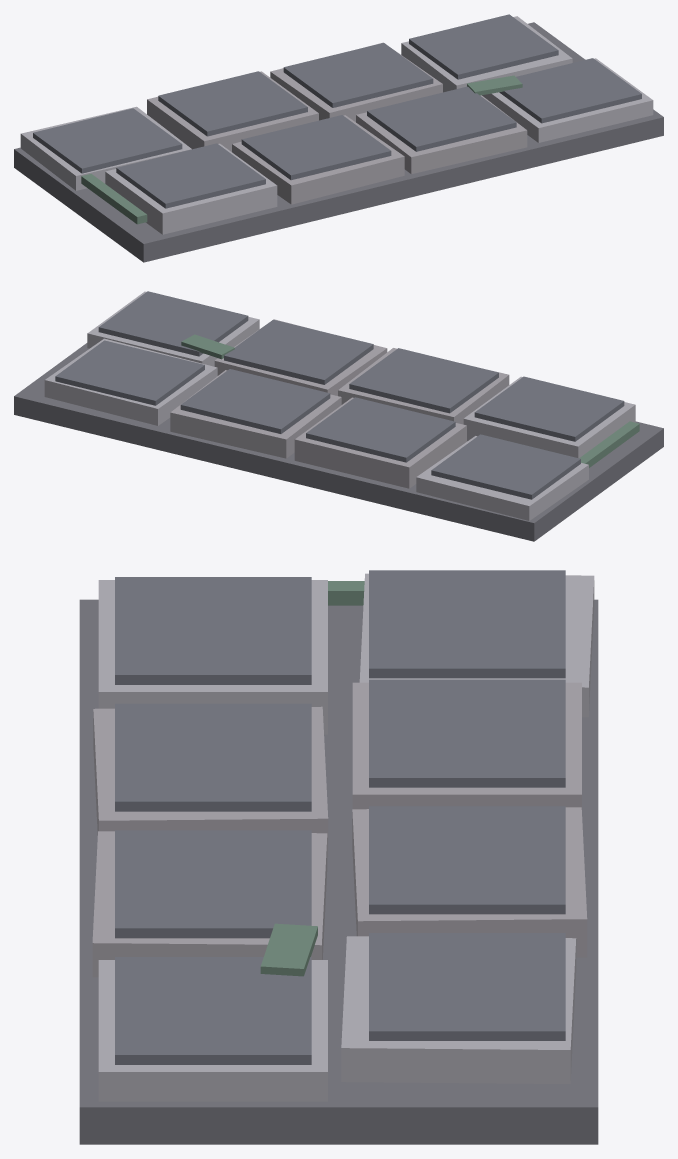
The model's file is road_tile.glb.
3 views of the same model, one above another, from view 1: azimuth 30°, elevation 25°; view 2: azimuth 150°, elevation 25°; view 3: azimuth 270°, elevation 25° (orthographic). The views are drawn at different scales.
Visible parts, largest first — view 1: Gothic Road Tile; view 2: Gothic Road Tile; view 3: Gothic Road Tile.
Boxes of the visible parts, x1,y1,x2,y2 form: Gothic Road Tile: [14, 14, 663, 262]; Gothic Road Tile: [14, 291, 663, 541]; Gothic Road Tile: [79, 570, 598, 1144].
Size of the model in its own units: 8.8 by 0.725 by 3.8.
